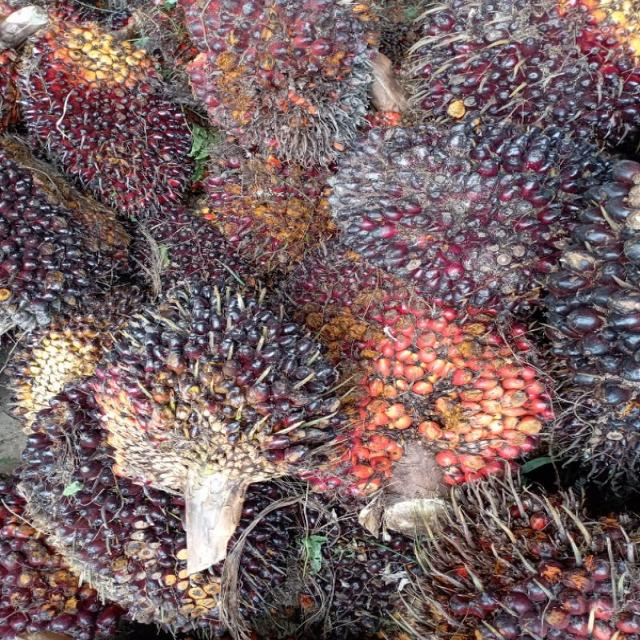fraksi 00: (285, 101, 622, 359), (59, 260, 375, 524)
fraksi 1: (0, 0, 263, 249), (139, 0, 442, 185)
fraksi 3: (256, 224, 631, 525)
